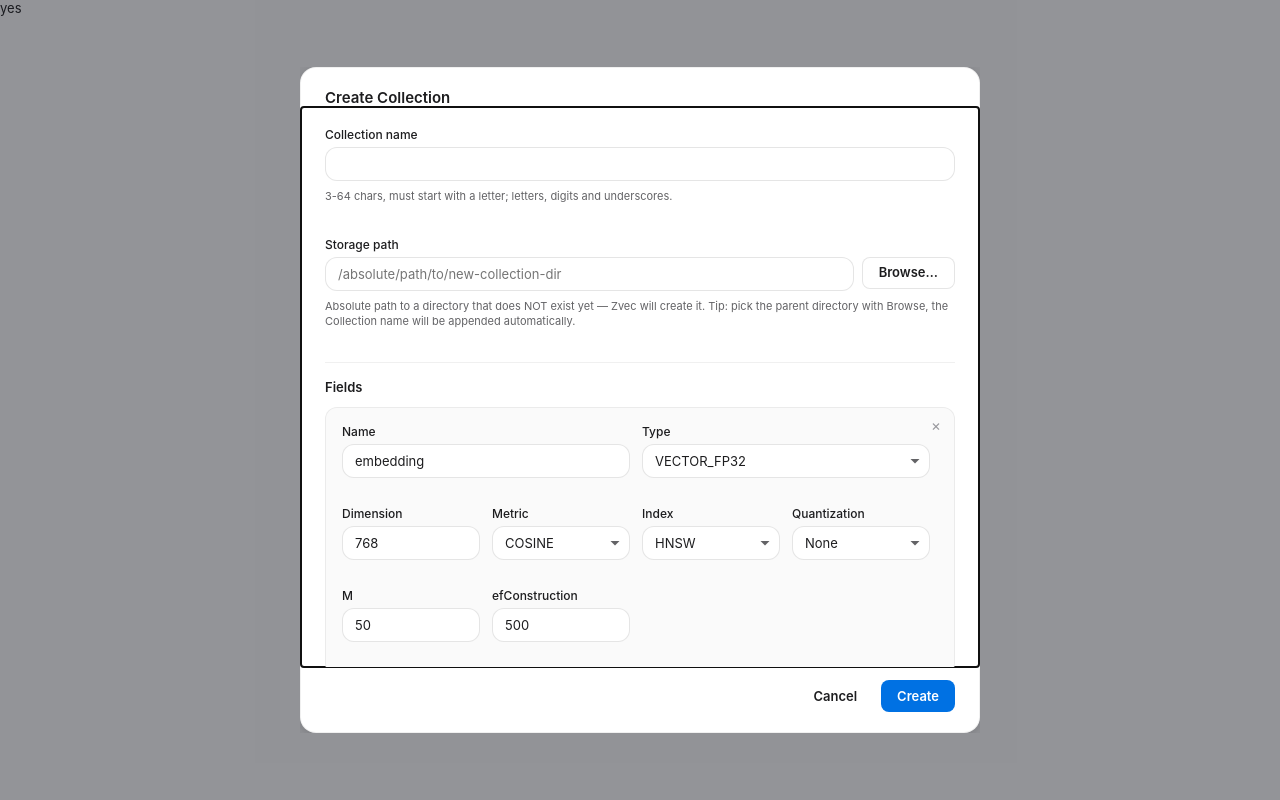
<CreateCollectionDialog /> › shows validation errors when required fields are empty
Click the button with test id "zv-create-submit".
click(918, 696)  # box [881,680,955,712]
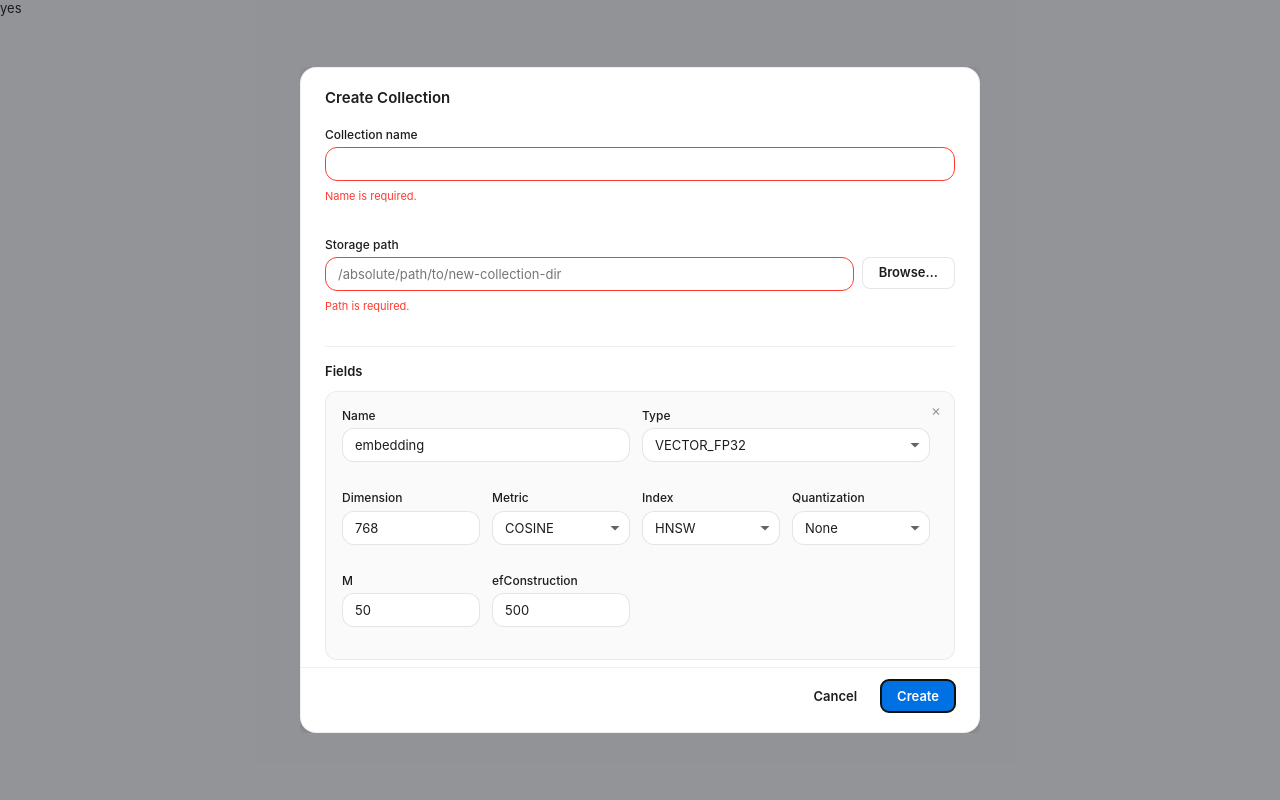
Result: the text "Name is required." is shown at [325,189,417,203]
Result: the text "Path is required." is shown at [325,299,410,313]
